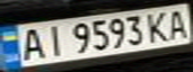3: (124, 12, 148, 46)
5: (87, 17, 112, 52)
9: (66, 19, 93, 55), (106, 16, 130, 50)
A: (15, 26, 48, 62), (163, 7, 193, 39)
I: (39, 23, 69, 57)
K: (142, 9, 175, 43)
